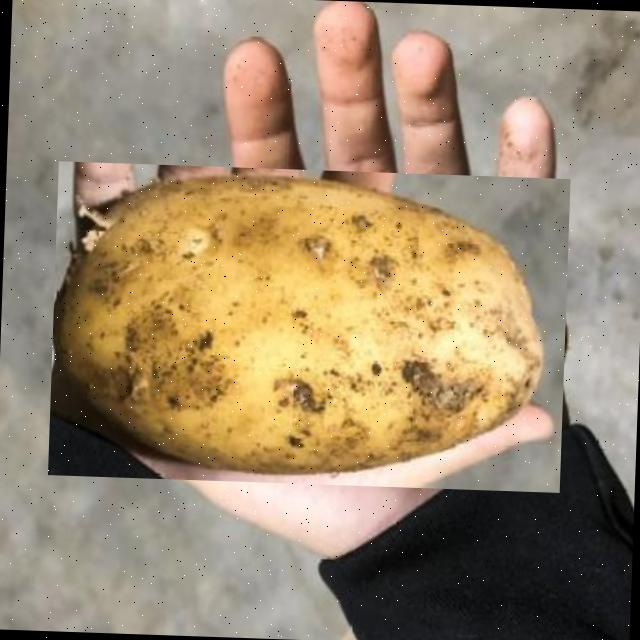Diseased-fungal potato: (47, 160, 570, 492)
